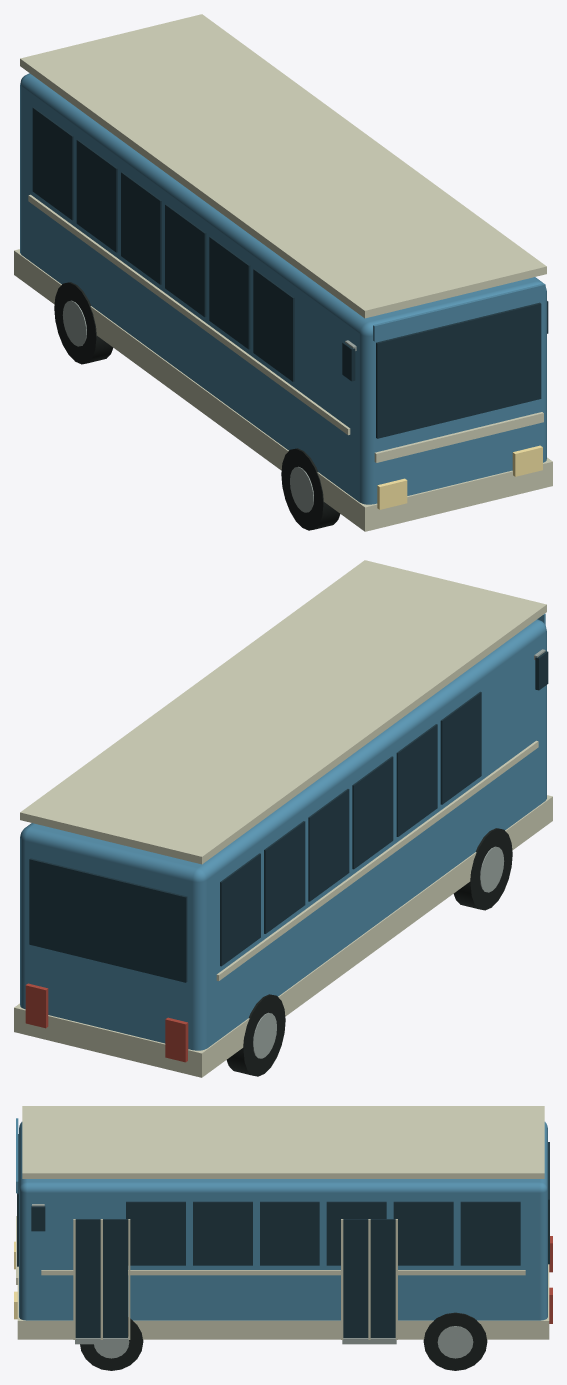
File: bus.glb
The picture shows the model from 3 angles, top to bottom: view 1: azimuth 30°, elevation 25°; view 2: azimuth 150°, elevation 25°; view 3: azimuth 270°, elevation 25°; orthographic projection. The views are drawn at different scales.
Visible parts, largest first — view 1: BusBody_Trim, BusBody_Paint, BusBody_Glass, VehicleWheelFrontLeft, VehicleWheelRearLeft, BusBody_FrontLamp; view 2: BusBody_Trim, BusBody_Paint, BusBody_Glass, VehicleWheelRearLeft, VehicleWheelFrontLeft, BusBody_RearLamp; view 3: BusBody_Trim, BusBody_Paint, BusBody_Glass, VehicleWheelRearRight, VehicleWheelFrontRight, BusBody_Metal.
Part boxes in pixels (x1,y1,x2,y2): BusBody_Trim: [14, 14, 552, 531]; BusBody_Paint: [20, 73, 546, 504]; BusBody_Glass: [32, 107, 548, 438]; VehicleWheelFrontLeft: [281, 448, 340, 530]; VehicleWheelRearLeft: [54, 282, 113, 364]; BusBody_FrontLamp: [377, 445, 542, 509]; BusBody_Trim: [14, 560, 552, 1077]; BusBody_Paint: [20, 613, 546, 1050]; BusBody_Glass: [29, 651, 548, 982]; VehicleWheelRearLeft: [226, 994, 285, 1076]; VehicleWheelFrontLeft: [453, 828, 512, 910]; BusBody_RearLamp: [25, 983, 188, 1062]; BusBody_Trim: [16, 1106, 549, 1339]; BusBody_Paint: [16, 1118, 547, 1320]; BusBody_Glass: [17, 1134, 549, 1337]; VehicleWheelRearRight: [423, 1312, 487, 1370]; VehicleWheelFrontRight: [80, 1317, 143, 1370]; BusBody_Metal: [32, 1204, 396, 1344].
Size of the model in its own units: 2.7 by 3.4 by 8.46.
